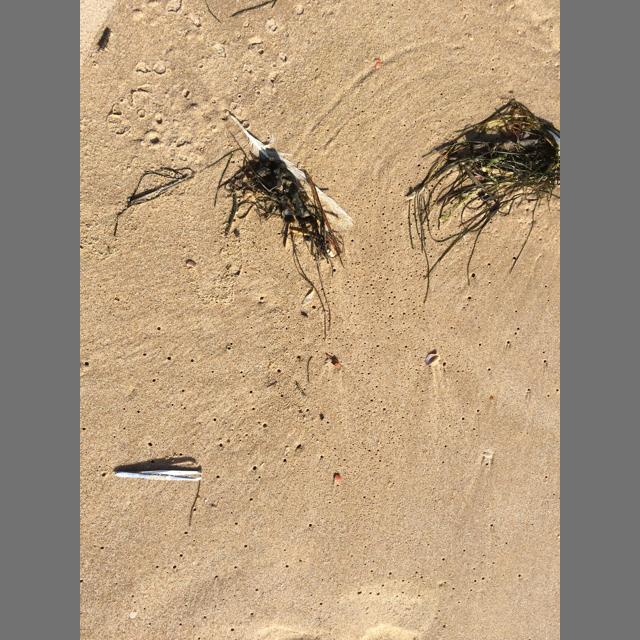litter: (115, 470, 202, 481)
